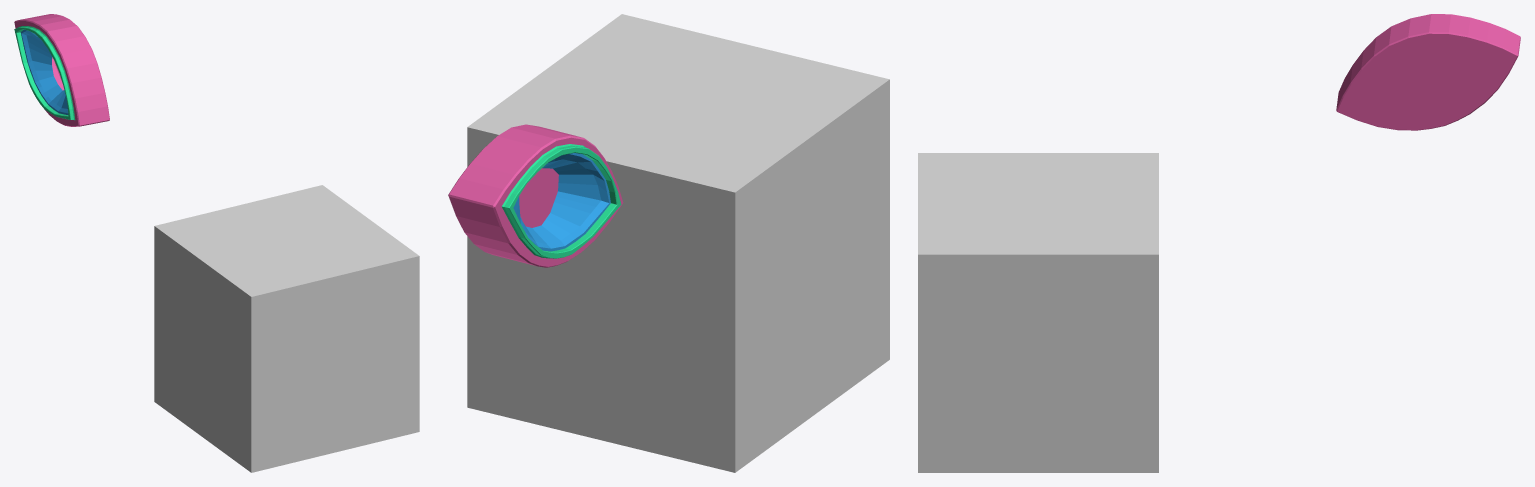
The model's file is N_Leye_Swallow.fbx.
The picture shows the model from 3 angles, left to right: view 1: azimuth 30°, elevation 25°; view 2: azimuth 150°, elevation 25°; view 3: azimuth 270°, elevation 25°; orthographic projection. The views are drawn at different scales.
Parts seen in each view (by area): view 1: Cube, eye.001; view 2: Cube, eye.001; view 3: Cube, eye.001.
Part boxes in pixels (x1,y1,x2,y2): Cube: (154, 185, 419, 472); eye.001: (14, 14, 109, 126); Cube: (467, 14, 889, 472); eye.001: (448, 124, 623, 267); Cube: (918, 153, 1158, 472); eye.001: (1336, 14, 1520, 130).
Bounding box in the file's own units: 207 × 329 × 500.
